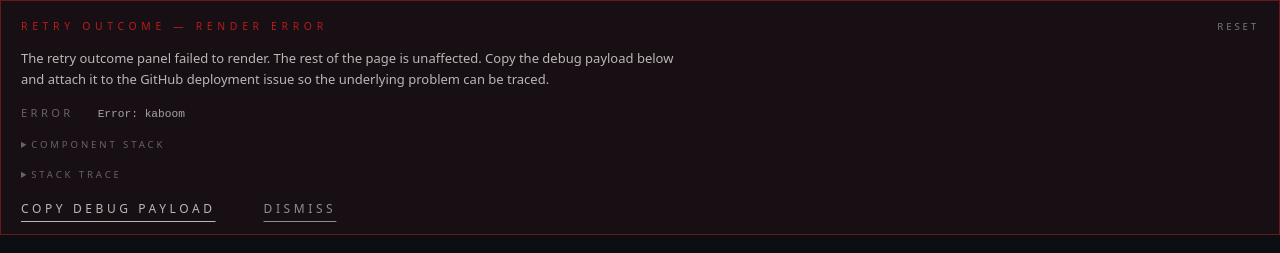
Test: RetryOutcomeErrorBoundary › falls back to console.info and shows a failure confirmation when clipboard throws
The width and height of the screenshot is (1280, 253).
Click the button "Copy debug payload".
click(118, 209)  # box [21,200,216,218]
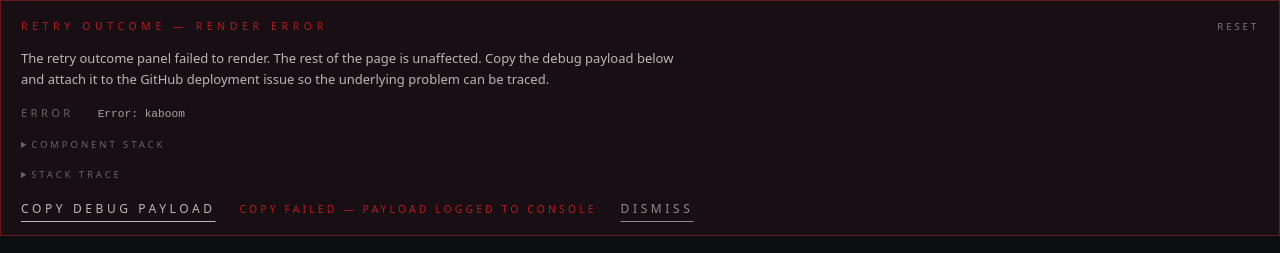
Expected: the message shows "Copy failed", [240,202,597,216]
